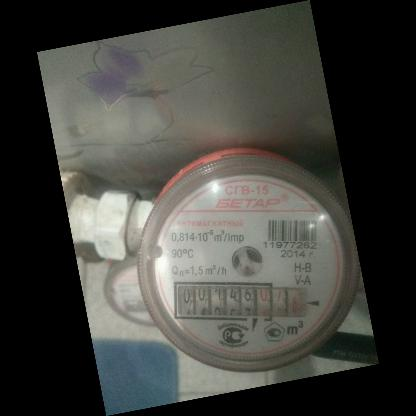digital_screen: (172, 278, 258, 322)
